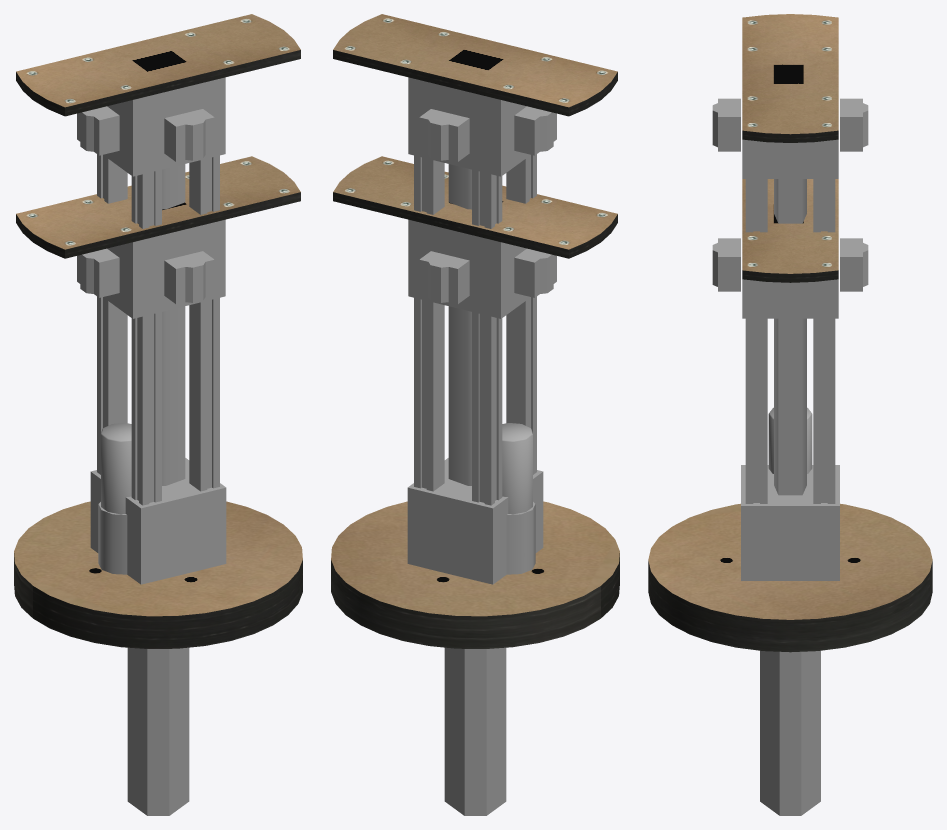
File: Body_ROBOTINO_B.dae
3 views of the same model, side by side, from view 1: azimuth 30°, elevation 25°; view 2: azimuth 150°, elevation 25°; view 3: azimuth 270°, elevation 25° (orthographic).
Parts seen in each view (by area): view 1: Body_low_poly; view 2: Body_low_poly; view 3: Body_low_poly.
Boxes of the visible parts, x1,y1,x2,y2 form: Body_low_poly: (14, 14, 302, 815); Body_low_poly: (331, 14, 619, 815); Body_low_poly: (648, 14, 932, 815).
Bounding box in the file's own units: 0.26 × 0.26 × 0.736.
2 materials, 1 textured.
